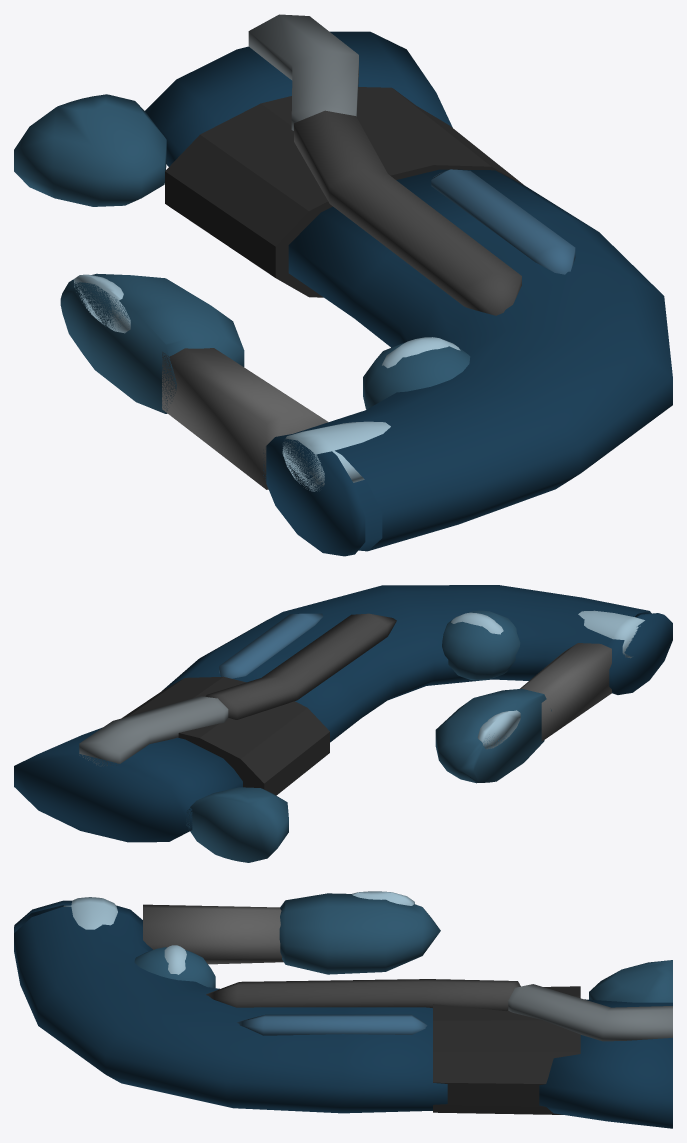
Rendered from newsh-caret-56.glb.
3 views of the same model, one above another, from view 1: azimuth 30°, elevation 25°; view 2: azimuth 150°, elevation 25°; view 3: azimuth 270°, elevation 25° (orthographic). The views are drawn at different scales.
Parts seen in each view (by area): view 1: newsh-caret-56; view 2: newsh-caret-56; view 3: newsh-caret-56.
Boxes of the visible parts, x1,y1,x2,y2 form: newsh-caret-56: [14, 14, 672, 556]; newsh-caret-56: [14, 585, 672, 862]; newsh-caret-56: [14, 891, 672, 1128].
Bounding box in the file's own units: 1.33 × 0.3597 × 2.08.
